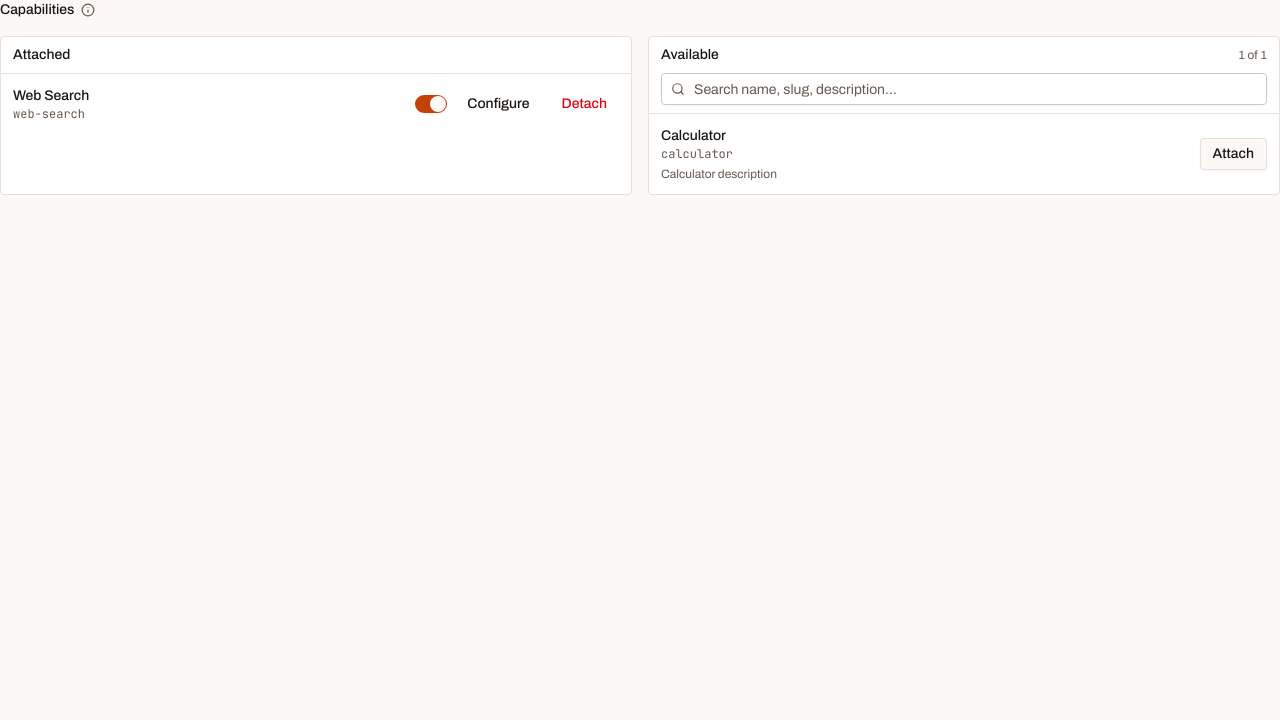
it: AgentCapabilitiesTab › configure dialog validation › shows rate limit error when customRateLimit is not a positive number
Expected: the text "Web Search" is shown, left=13, top=86, right=89, bottom=106
Click the button "Configure". click: (498, 104)
box: left=455, top=88, right=542, bottom=120
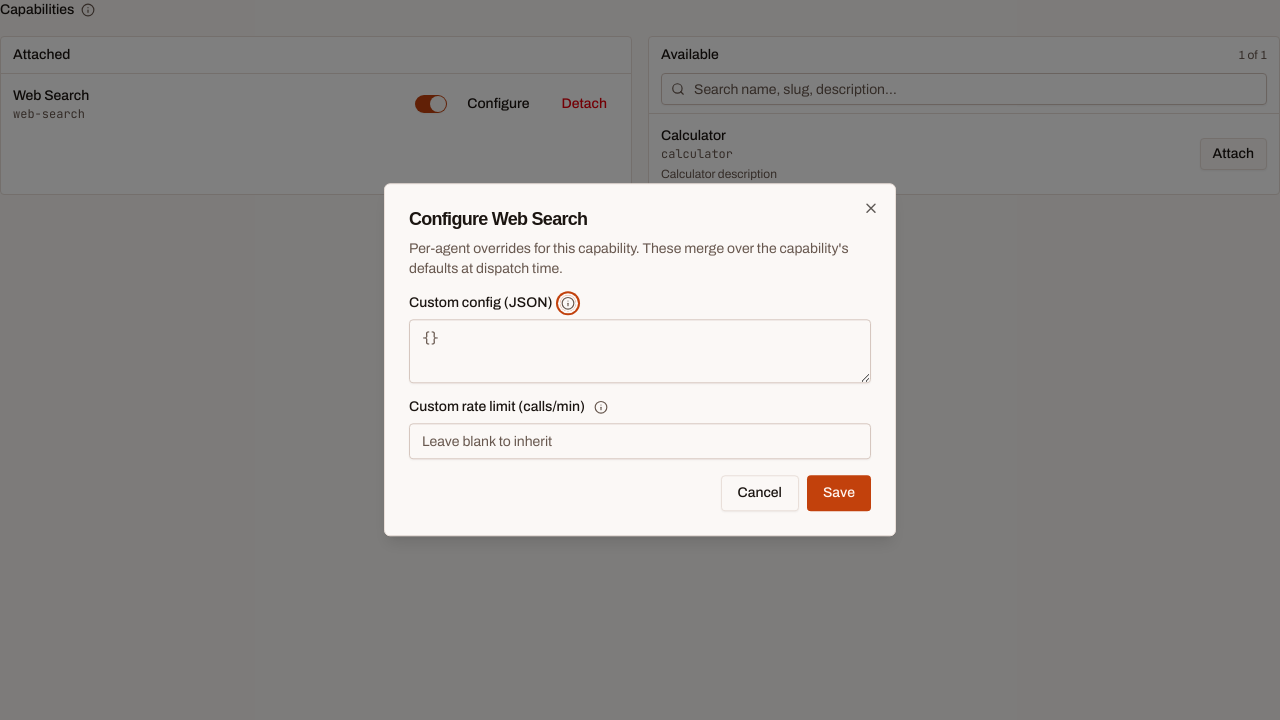
Now the heading "Configure Web Search" is shown, box left=409, top=209, right=587, bottom=229
Note: type invalid rate limit (0 is not a positive number)
Type "0" into the number field labelled "Custom rate limit (calls/min)". click: (640, 442)
box: left=409, top=424, right=871, bottom=460
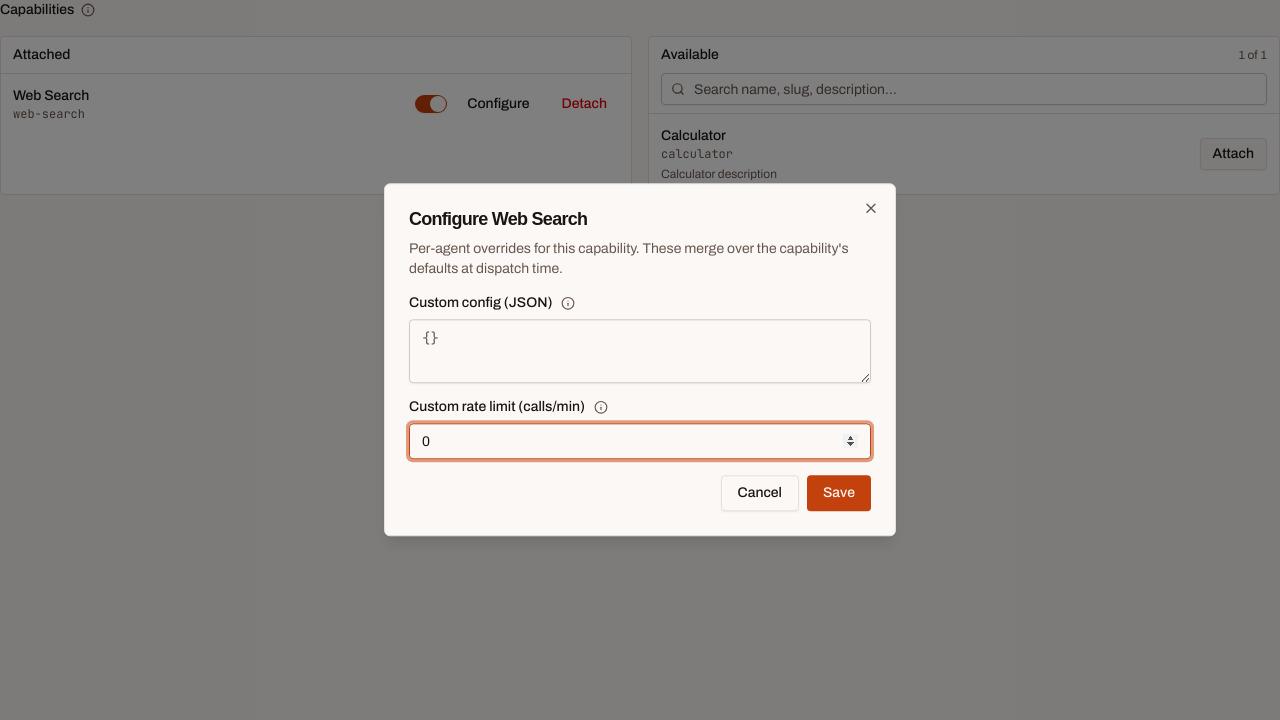
Click the button "Save". click: (839, 494)
box: left=807, top=476, right=871, bottom=512
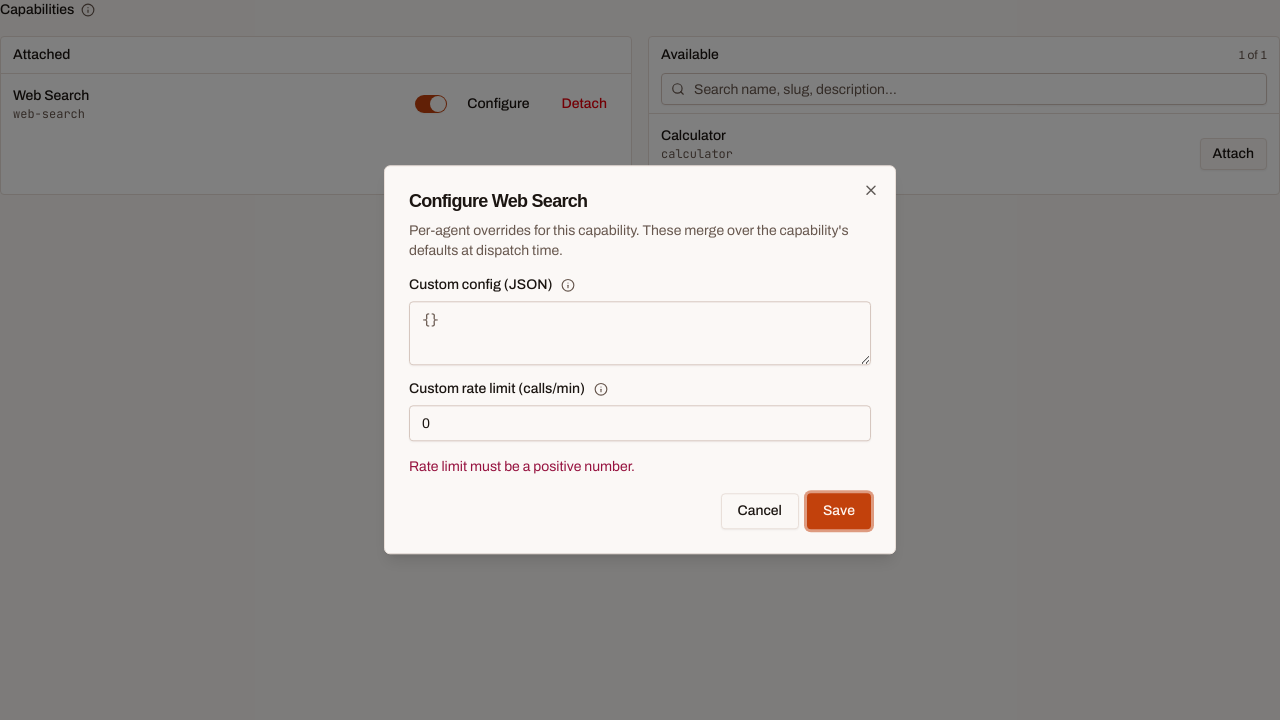
Now the text "Rate limit must be a positive number." is shown, box left=409, top=460, right=635, bottom=475
